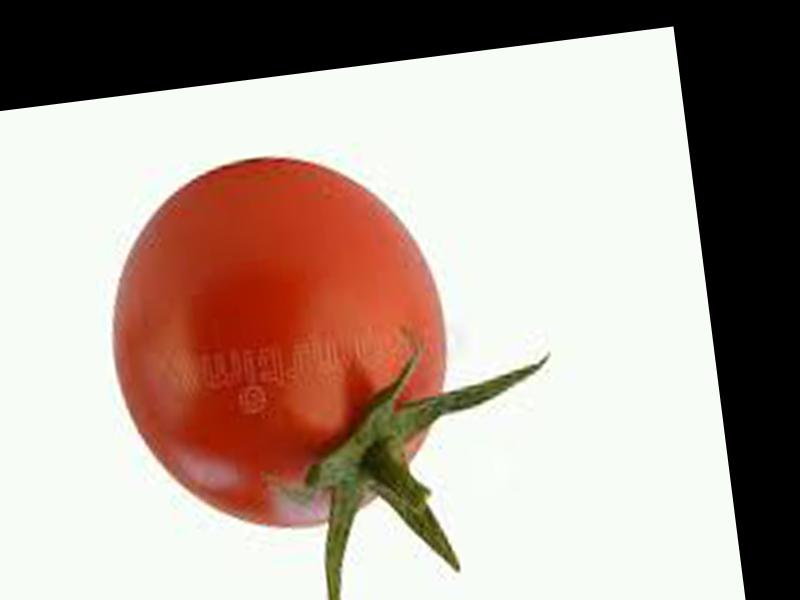Tomato: (91, 137, 463, 546)
